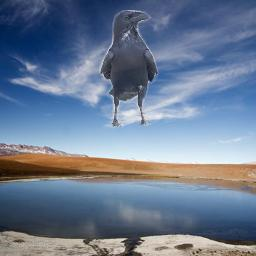Crow: (99, 10, 159, 127)
